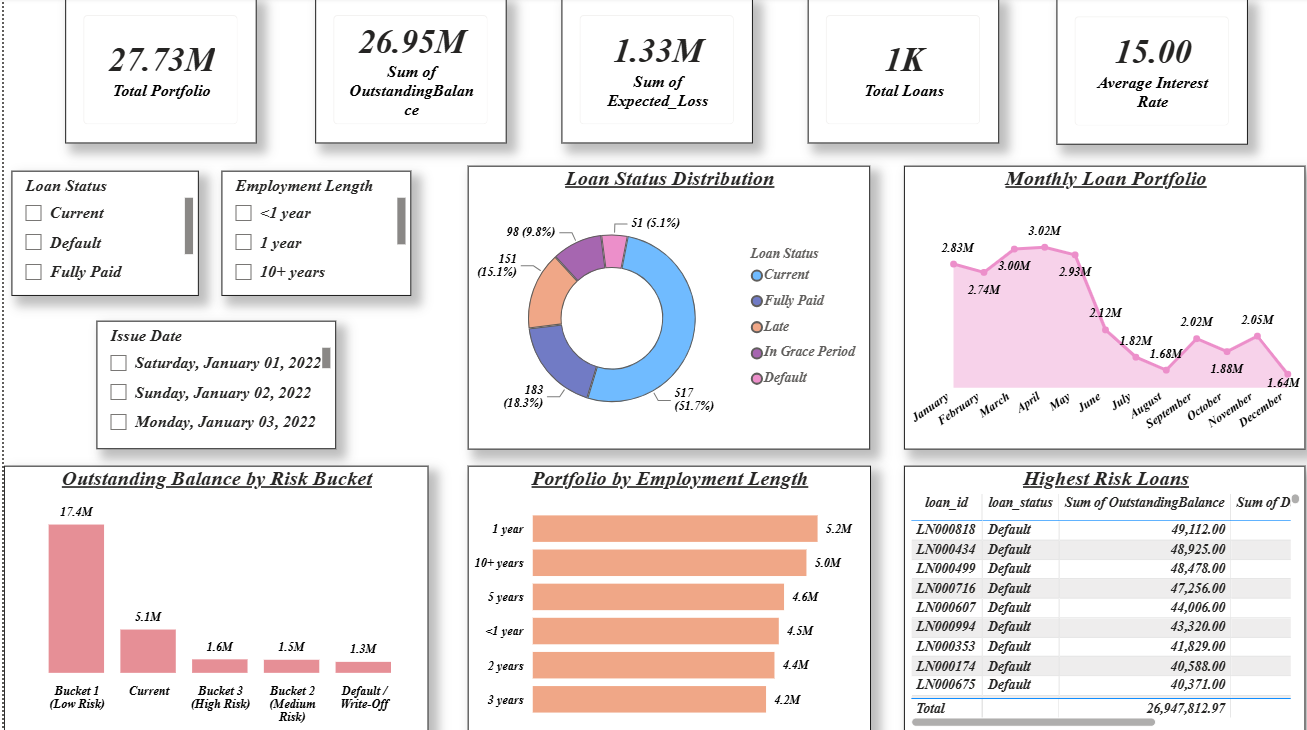

What the dashboard file says about the page in this screenshot:
{"tool":"powerbi","page":{"name":"Credit Portfolio Quality","canvas":[1280,720],"ordinal":0},"visuals":[{"type":"cardVisual","fields":{"Data":["final_credit_portfolio.Total Portfolio"]},"box":[59.5,0,187.2,143.2],"z":0},{"type":"cardVisual","fields":{"Data":["Sum(final_credit_portfolio.OutstandingBalance)"]},"box":[304.8,0,187.2,143.2],"z":1000},{"type":"cardVisual","fields":{"Data":["Sum(final_credit_portfolio.Expected_Loss)"]},"box":[545.9,0,187.2,143.2],"z":2000},{"type":"cardVisual","fields":{"Data":["final_credit_portfolio.Total Loans"]},"box":[786.9,0,187.2,143.2],"z":3000},{"type":"cardVisual","fields":{"Data":["final_credit_portfolio.Average Interest Rate"]},"box":[1029.3,1.4,187.2,143.2],"z":4000},{"type":"donutChart","title":"Loan Status Distribution","fields":{"Category":["final_credit_portfolio.loan_status"],"Y":["CountNonNull(final_credit_portfolio.loan_id)"]},"box":[453.7,165.1,393.8,277.6],"z":5000},{"type":"clusteredColumnChart","title":"Outstanding Balance by Risk Bucket","fields":{"Category":["final_credit_portfolio.DelinquencyTier"],"Y":["Sum(final_credit_portfolio.OutstandingBalance)"]},"box":[0,458,415,262],"z":6000},{"type":"lineChart","title":"Monthly Loan Portfolio","fields":{"Category":["final_credit_portfolio.issue_date.Variation.Date Hierarchy.Month"],"Y":["final_credit_portfolio.Total Portfolio"]},"box":[880.4,165.1,393.8,277.6],"z":7000},{"type":"clusteredBarChart","title":"Portfolio by Employment Length","fields":{"Category":["final_credit_portfolio.employment_length"],"Y":["final_credit_portfolio.Total Portfolio"]},"box":[454,458,394,262],"z":8000},{"type":"tableEx","title":"Highest Risk Loans","fields":{"Values":["final_credit_portfolio.loan_id","final_credit_portfolio.loan_status","Sum(final_credit_portfolio.OutstandingBalance)","Sum(final_credit_portfolio.DaysPastDue)","Sum(final_credit_portfolio.Expected_Loss)"]},"box":[880.4,458.6,393.8,261.7],"z":9000},{"type":"slicer","fields":{"Values":["final_credit_portfolio.loan_status"]},"box":[7.3,170,183.4,122.3],"z":10000},{"type":"slicer","fields":{"Values":["final_credit_portfolio.employment_length"]},"box":[212.8,170,185.9,122.3],"z":11000},{"type":"slicer","fields":{"Values":["final_credit_portfolio.issue_date"]},"box":[90.5,316.7,234.8,126],"z":12000}]}

Visuals, with their boxes in screenshot pixels (x1, y1, x2, y2), scaled from the page's 1280x720 canvas onto the 1307x730 screenshot:
cardVisual - final_credit_portfolio.Total Portfolio: l=61, t=0, r=252, b=145
cardVisual - Sum(final_credit_portfolio.OutstandingBalance): l=311, t=0, r=502, b=145
cardVisual - Sum(final_credit_portfolio.Expected_Loss): l=557, t=0, r=749, b=145
cardVisual - final_credit_portfolio.Total Loans: l=803, t=0, r=995, b=145
cardVisual - final_credit_portfolio.Average Interest Rate: l=1051, t=1, r=1242, b=147
"Loan Status Distribution" donutChart: l=463, t=167, r=865, b=449
"Outstanding Balance by Risk Bucket" clusteredColumnChart: l=0, t=464, r=424, b=729
"Monthly Loan Portfolio" lineChart: l=899, t=167, r=1301, b=449
"Portfolio by Employment Length" clusteredBarChart: l=464, t=464, r=866, b=729
"Highest Risk Loans" tableEx: l=899, t=465, r=1301, b=729
slicer - final_credit_portfolio.loan_status: l=7, t=172, r=195, b=296
slicer - final_credit_portfolio.employment_length: l=217, t=172, r=407, b=296
slicer - final_credit_portfolio.issue_date: l=92, t=321, r=332, b=449
